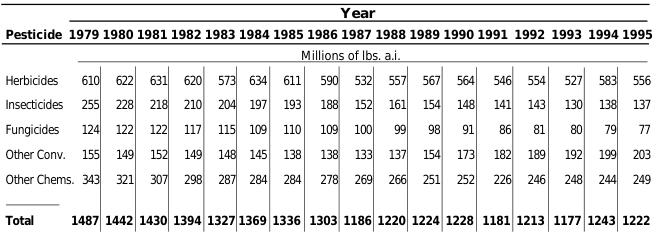table: (4, 3, 651, 226)
table column: (4, 3, 70, 226), (475, 3, 512, 226), (547, 3, 584, 226), (338, 3, 373, 226), (512, 3, 547, 226), (584, 3, 619, 226), (100, 3, 134, 226), (134, 3, 168, 226), (168, 3, 202, 226), (202, 3, 236, 226), (236, 3, 270, 226), (270, 3, 304, 226), (304, 3, 338, 226), (373, 3, 407, 226), (407, 3, 441, 226), (441, 3, 475, 226), (619, 3, 651, 226), (70, 3, 100, 226)
table column header: (4, 3, 651, 66)
table row: (4, 166, 651, 199), (4, 199, 651, 226), (4, 66, 651, 91), (4, 91, 651, 116), (4, 116, 651, 141), (4, 141, 651, 166), (4, 44, 651, 66), (4, 23, 651, 44), (4, 3, 651, 23)
table spanning cell: (70, 44, 651, 66), (70, 3, 651, 23), (4, 3, 70, 66)
